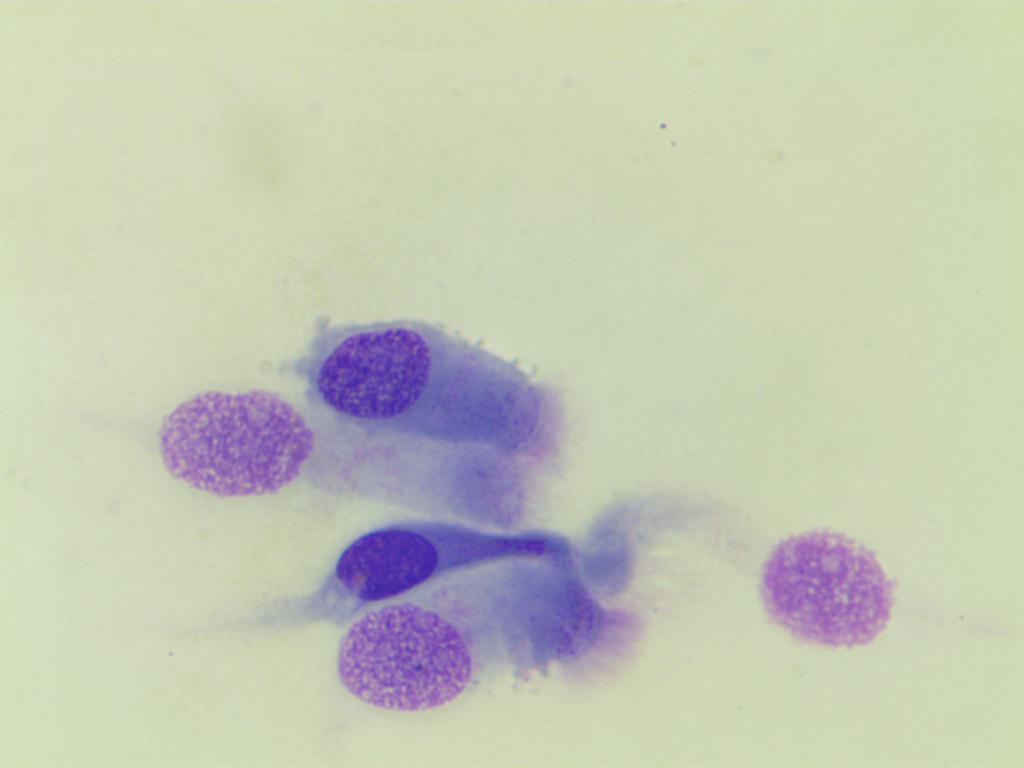ciliated: (159, 393, 522, 504), (311, 598, 625, 708), (315, 315, 546, 433), (317, 518, 580, 586)
epithelial: (754, 507, 898, 653)
